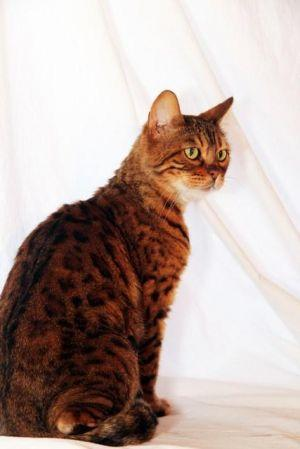bengal: (128, 84, 237, 210)
